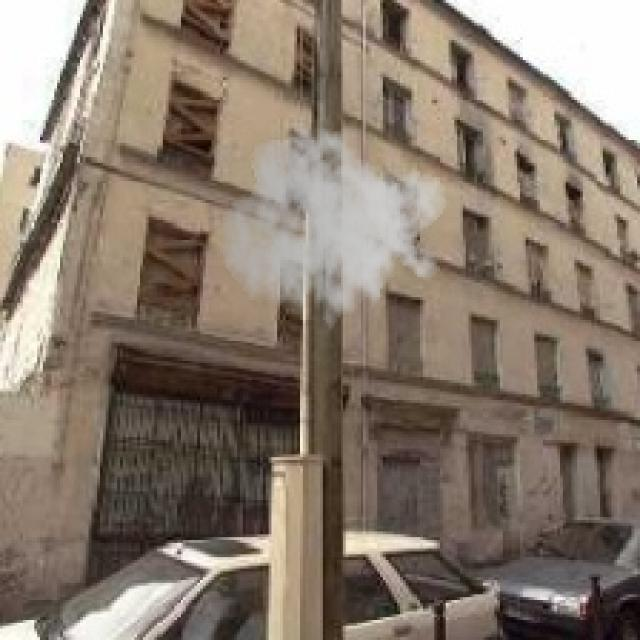Smoke: (221, 114, 448, 340)
